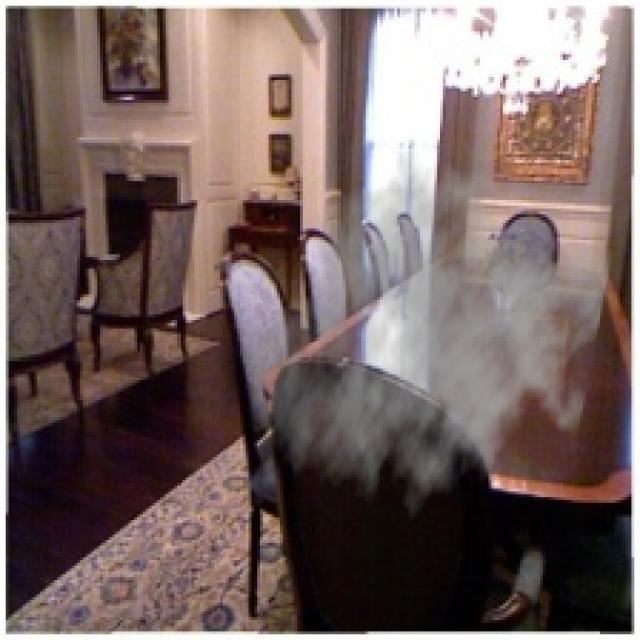Smoke: (252, 145, 614, 538)
